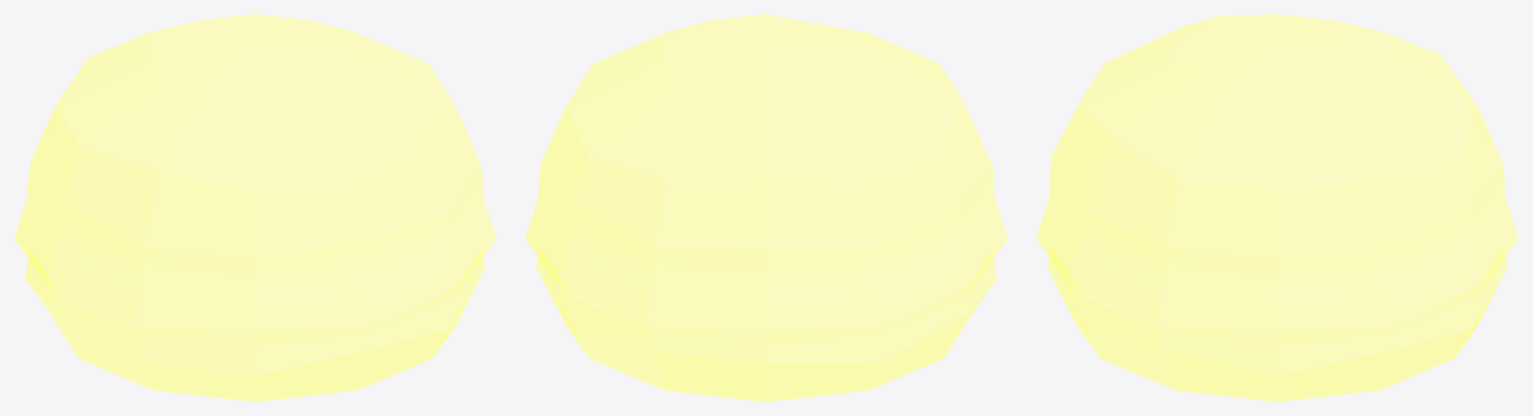
File: SM_Prop_LargeSign_Burger_03_Outline.glb
The picture shows the model from 3 angles, left to right: view 1: azimuth 30°, elevation 25°; view 2: azimuth 150°, elevation 25°; view 3: azimuth 270°, elevation 25°; orthographic projection.
Visible parts, largest first — view 1: SM_Prop_LargeSign_Burger_03_Outline; view 2: SM_Prop_LargeSign_Burger_03_Outline; view 3: SM_Prop_LargeSign_Burger_03_Outline.
Boxes of the visible parts, <box> form: SM_Prop_LargeSign_Burger_03_Outline: <box>14,14,496,401</box>; SM_Prop_LargeSign_Burger_03_Outline: <box>525,14,1007,401</box>; SM_Prop_LargeSign_Burger_03_Outline: <box>1036,14,1518,401</box>.
Bounding box in the file's own units: 3.86 × 2.4 × 3.86.
